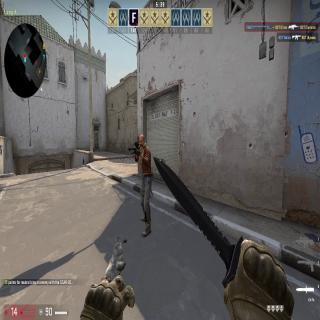CT-Body: (138, 134, 152, 235)
CT-Head: (138, 134, 144, 148)
